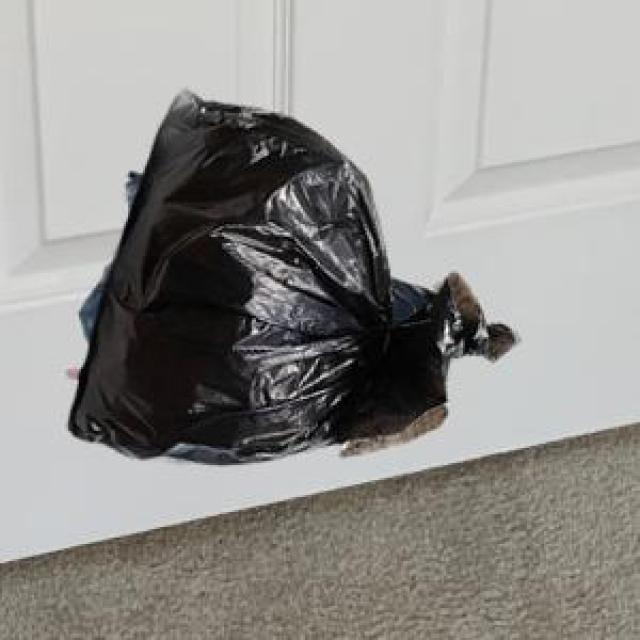waste: (69, 90, 515, 462)
